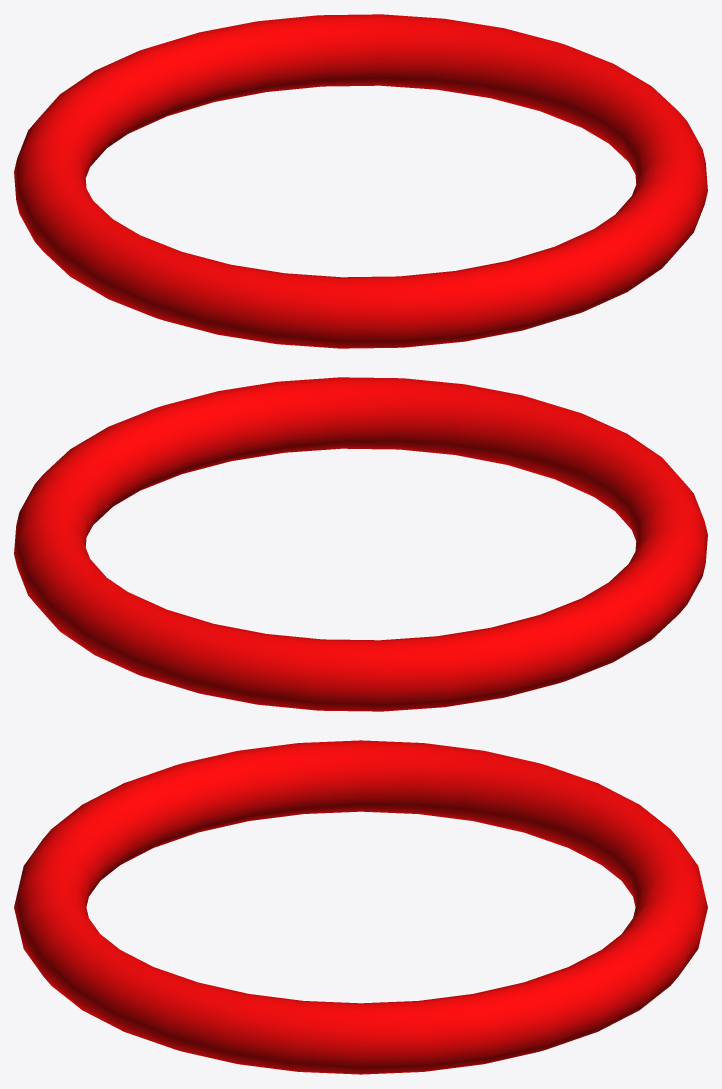
File: ring (2).FBX
3 renders of one model, top to bottom at view 1: azimuth 30°, elevation 25°; view 2: azimuth 150°, elevation 25°; view 3: azimuth 270°, elevation 25°, orthographic.
Parts seen in each view (by area): view 1: Torus001; view 2: Torus001; view 3: Torus001.
Part boxes in pixels (x1=…): Torus001: x1=14, y1=14, x2=707, y2=348; Torus001: x1=14, y1=377, x2=707, y2=711; Torus001: x1=14, y1=740, x2=707, y2=1074.
Bounding box in the file's own units: 70.03 × 7.19 × 70.03.
1 material, 1 textured.
